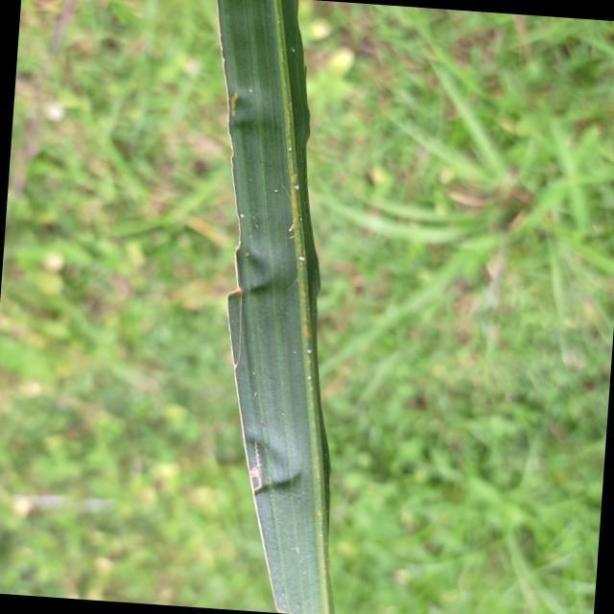Boron: (220, 0, 332, 614)
